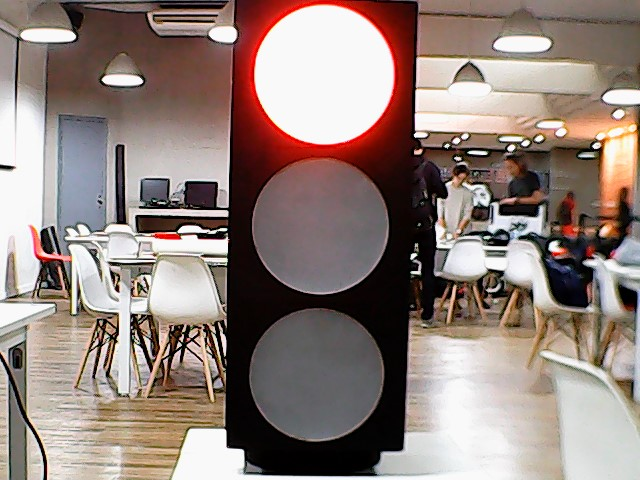vermelho: (222, 1, 429, 479)
